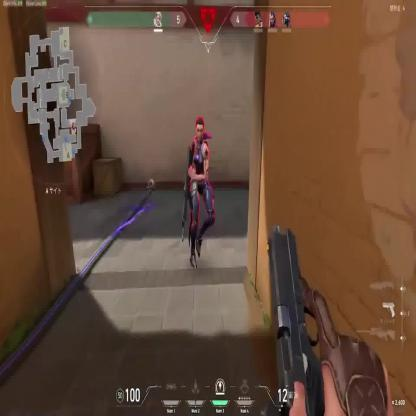enemy: (184, 116, 216, 277)
enemy_head: (195, 118, 205, 142)
